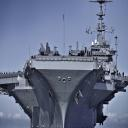Portanaves: (1, 2, 128, 128)
